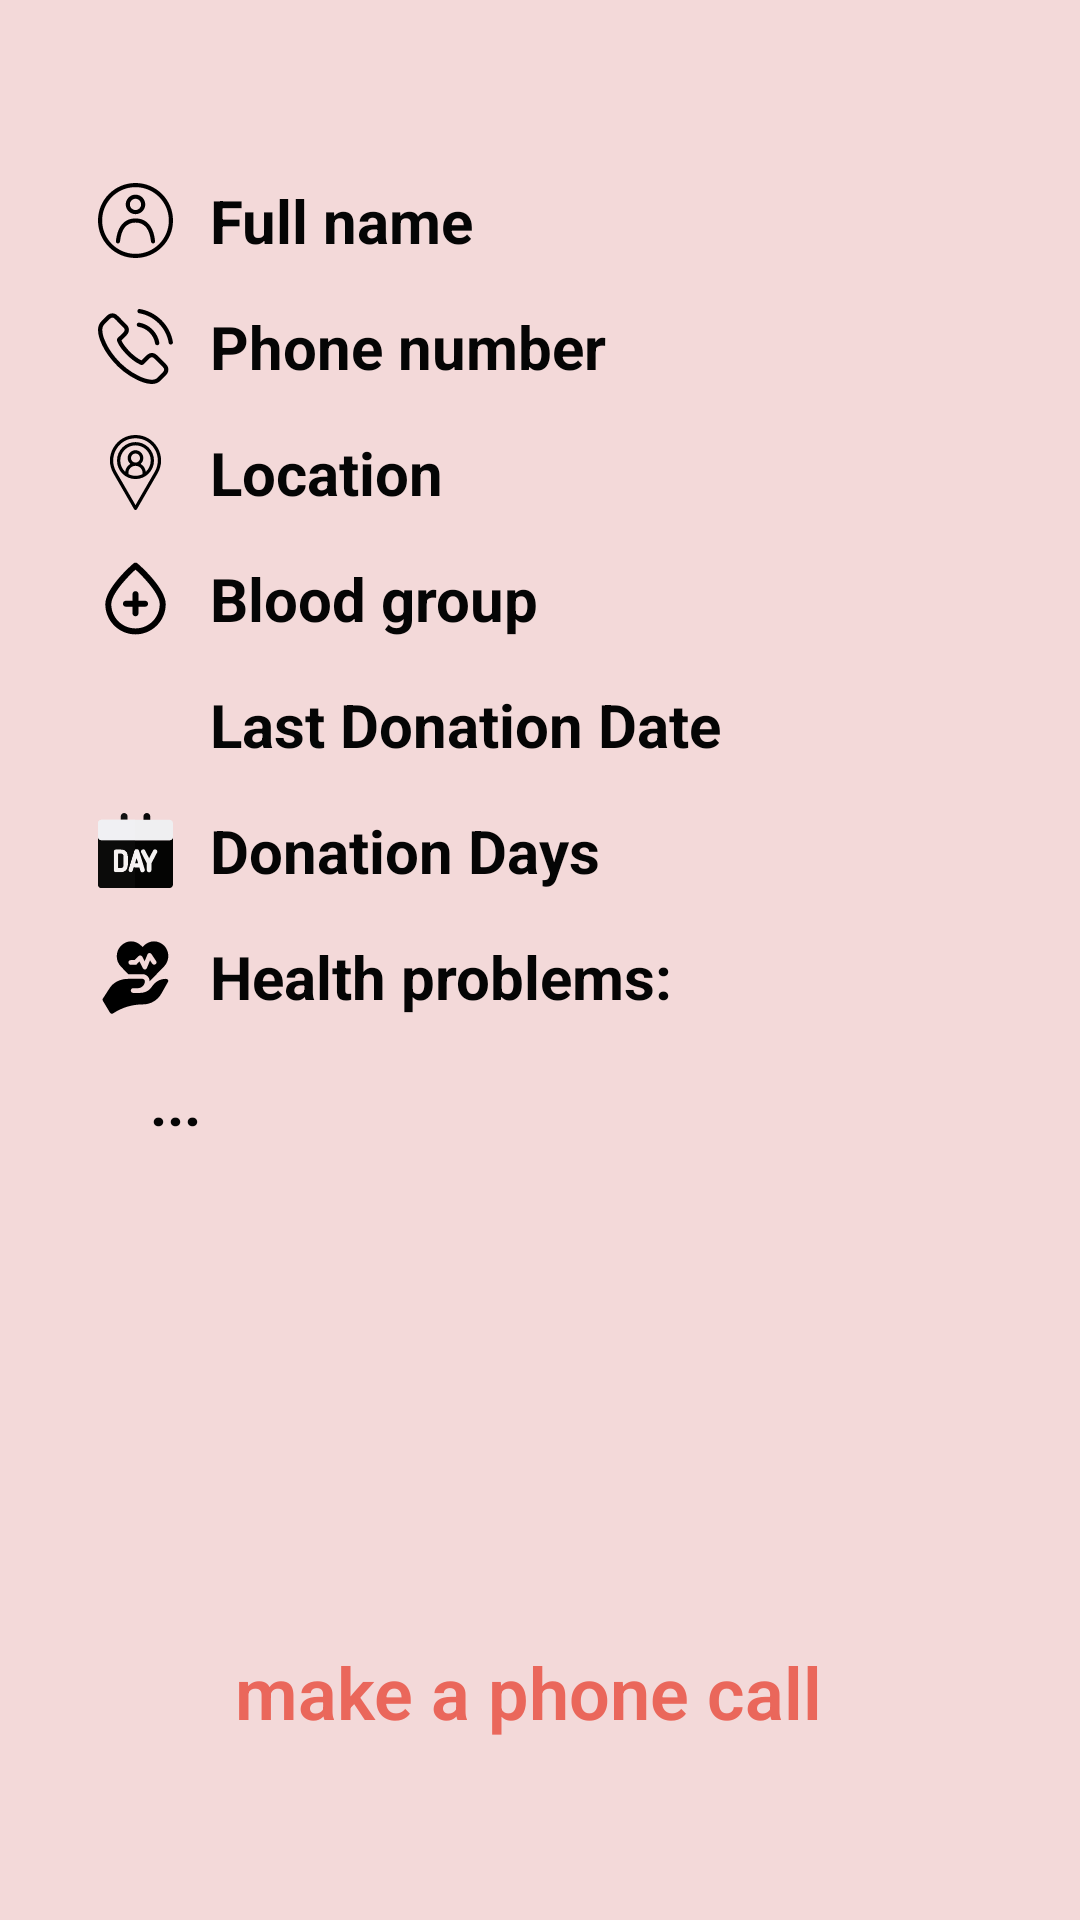

Where to tap for icons on this 1080w x 1920h app screen, as [x,y]:
phone call: [135,346]
user: [135,220]
